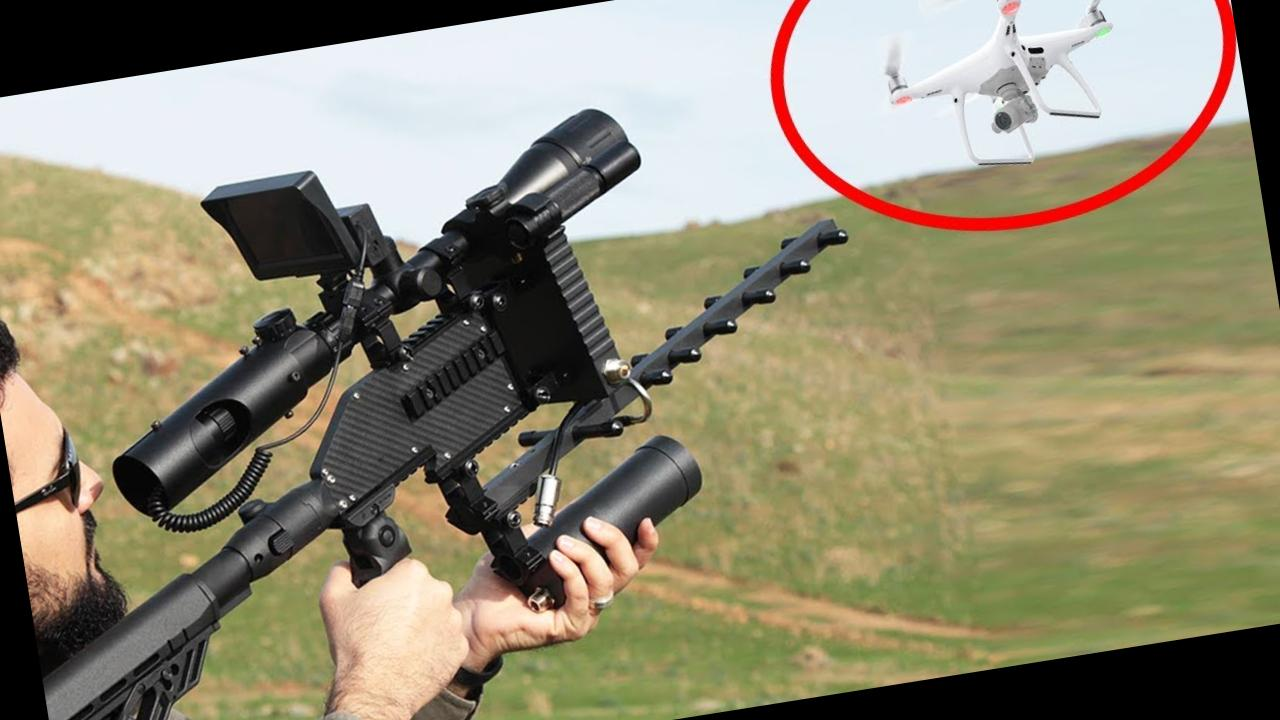drone: (828, 0, 1154, 189)
